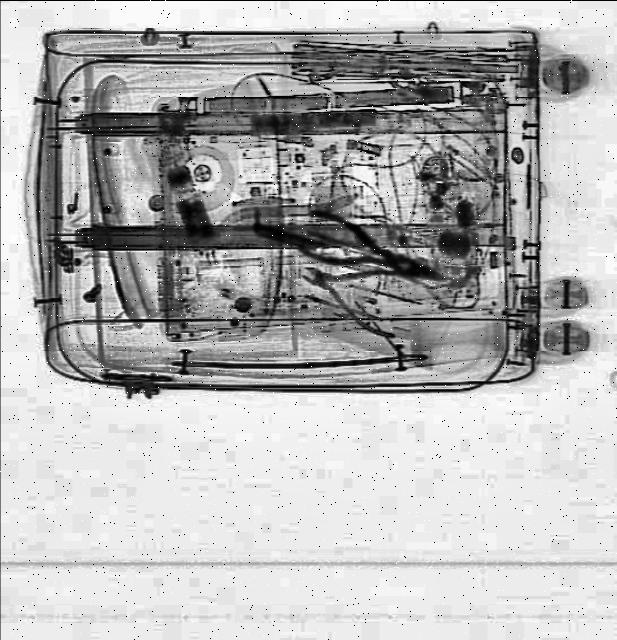Pliers: (292, 207, 450, 303), (289, 243, 417, 343)
